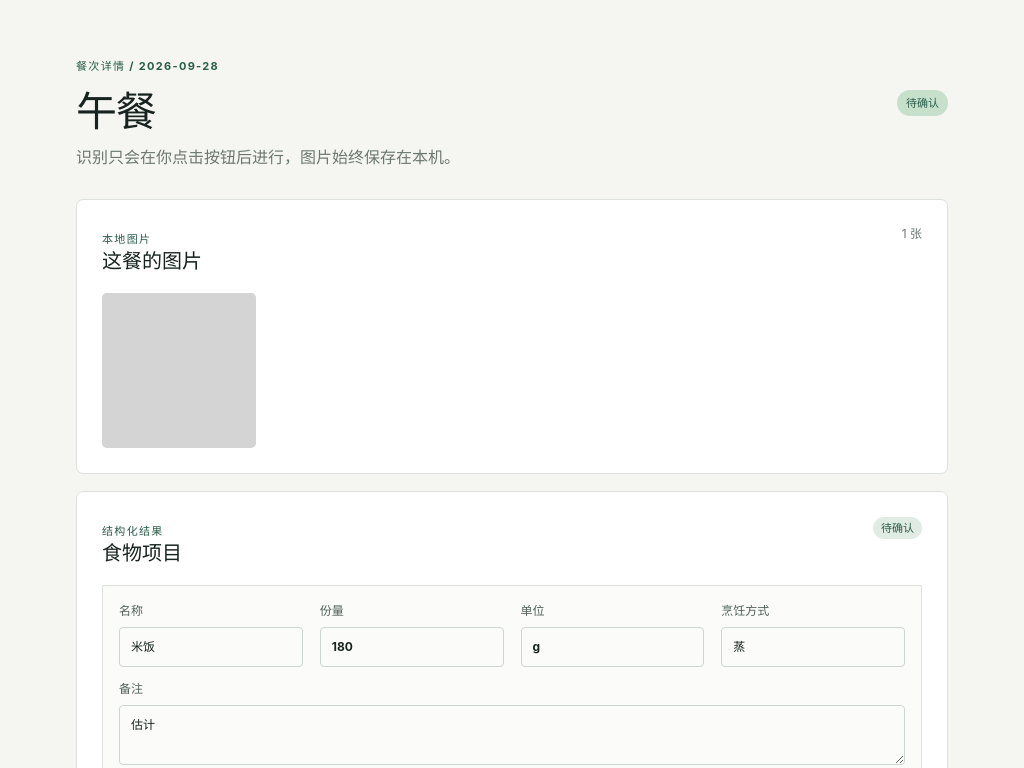
Test: MealDetailPage › submits edited items and displays the confirmed state
Replace the text in the field named "食物名称 1" with "糙米": (211, 647) [119,627,303,667]
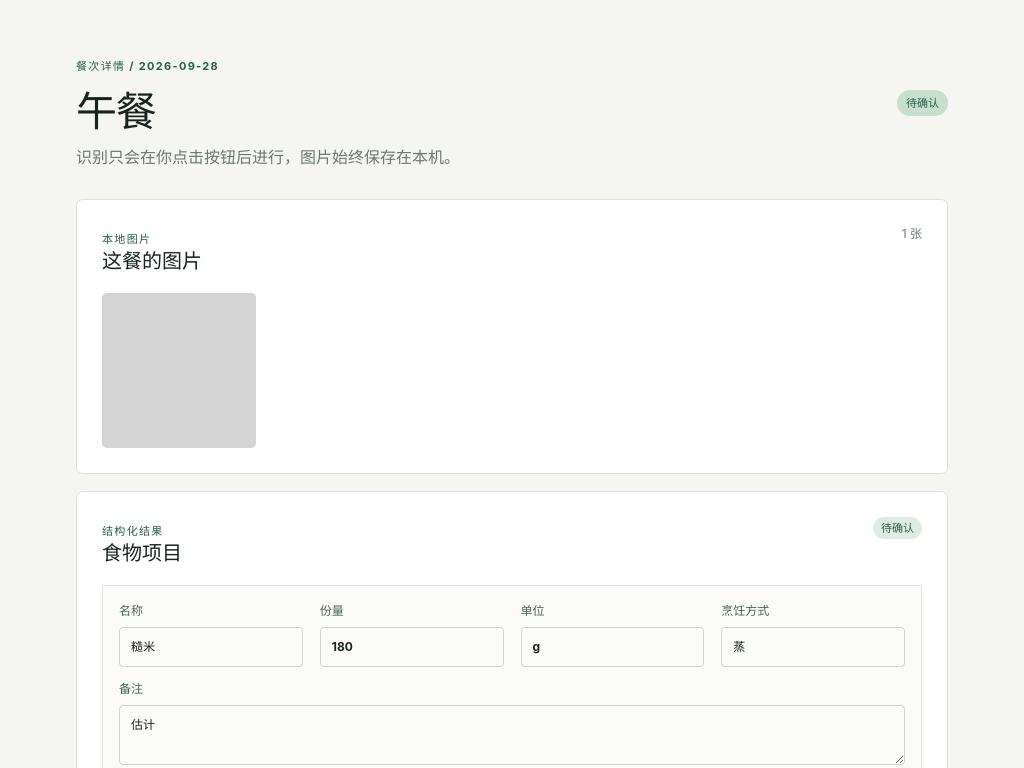
Replace the text in the number field named "份量 1" with "200": (412, 647) [320,627,504,667]
(page scrolled)
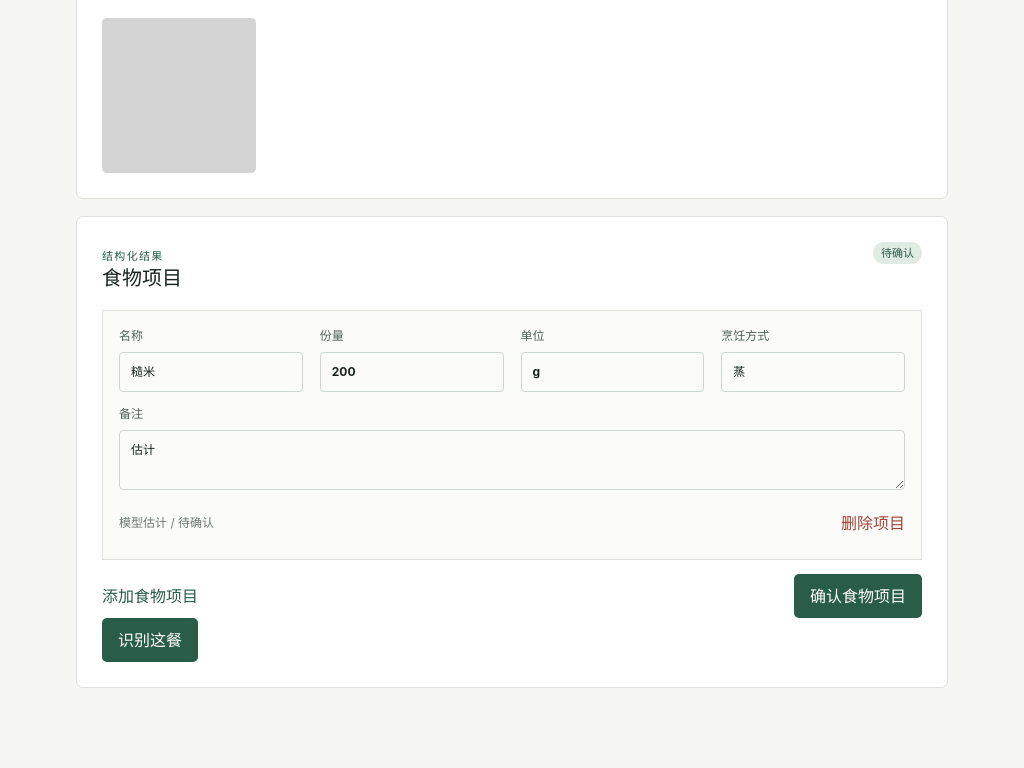
Click the button "确认食物项目": (858, 596) [794,574,922,618]
(page scrolled)
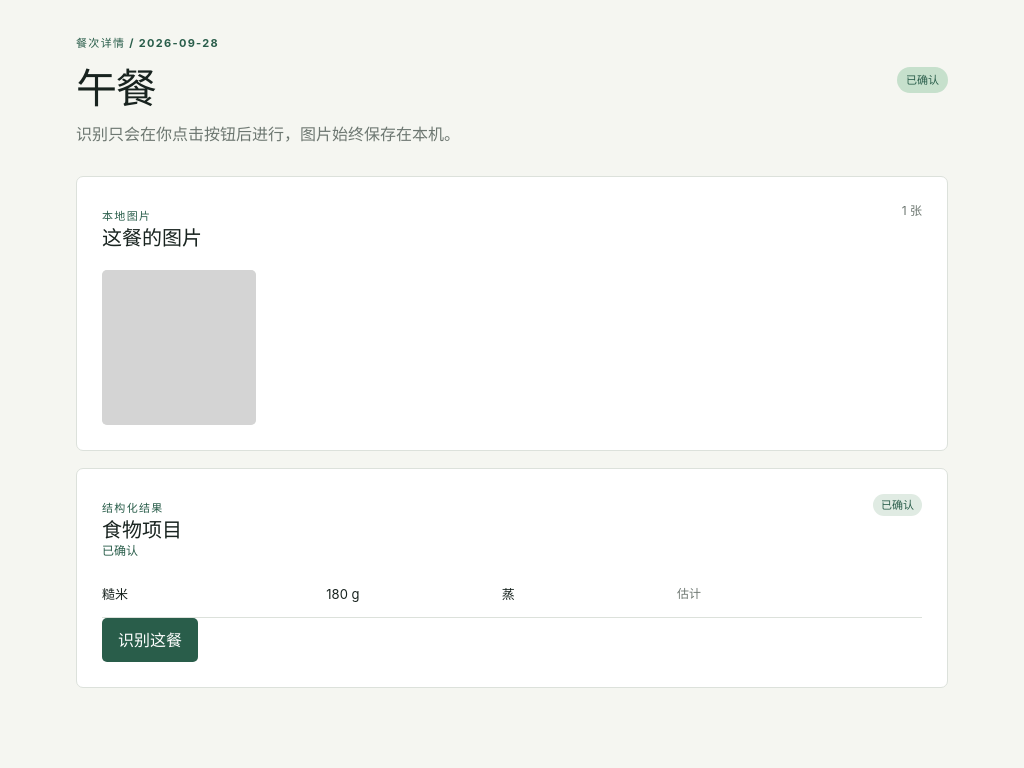
Check: the text "已确认" in the row of "午餐" is shown, box [906,72,939,86]
